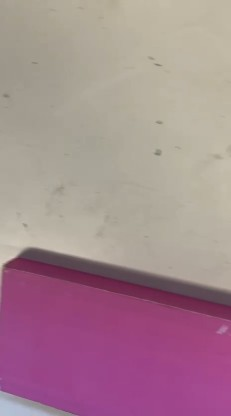pink: (3, 258, 225, 412)
